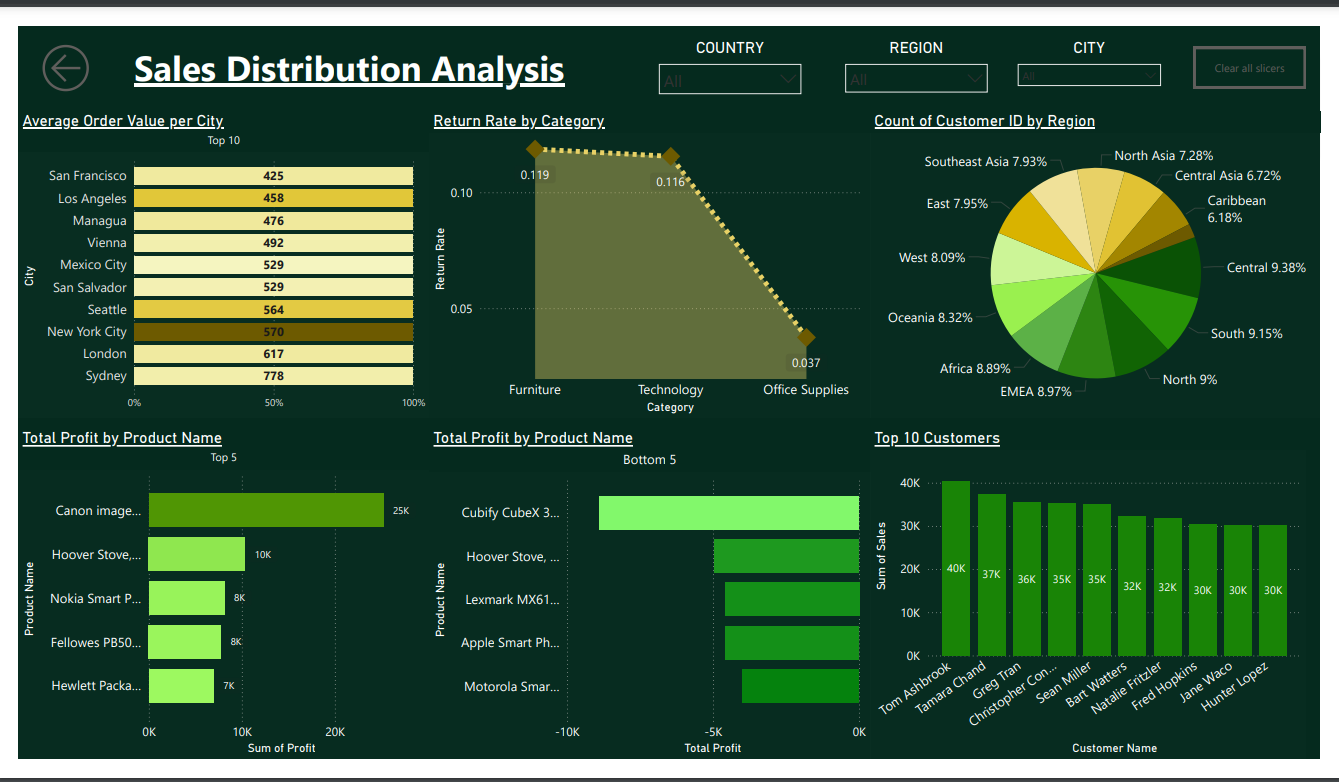

Layout of this report page (visuals, bound fields, positions):
{"tool":"powerbi","page":{"name":"Page 2","canvas":[1600,900],"ordinal":1},"visuals":[{"type":"barChart","title":"Total Profit by Product Name","fields":{"Category":["Orders.Product Name"],"Y":["Orders.Profit"]},"box":[0,494.5,504.7,404.4],"z":0},{"type":"clusteredBarChart","fields":{"Category":["Orders.Product Name"],"Y":["Orders.Total Profit"]},"box":[504.7,494.5,542.1,404.4],"z":1000},{"type":"clusteredColumnChart","title":"Top 10 Customers","fields":{"Category":["Orders.Customer Name"],"Y":["Orders.Sales"]},"box":[1046.7,494.5,535.3,404.4],"z":2000},{"type":"pieChart","fields":{"Y":["Orders.Customer ID"],"Category":["Orders.Region"]},"box":[1046.7,103.7,554,377.2],"z":3000},{"type":"lineChart","fields":{"Y":["Orders.Return Rate"],"Category":["Orders.Category"]},"box":[504.7,103.7,542.1,377.2],"z":4000},{"type":"hundredPercentStackedBarChart","title":"Average Order Value per City","fields":{"Category":["Orders.City"],"Y":["Orders.Avg Order Value"]},"box":[0,103.7,504.7,377.2],"z":5000},{"type":"slicer","title":"COUNTRY","fields":{"Values":["Orders.Country"]},"box":[776.6,15.3,195.4,88.4],"z":6000},{"type":"slicer","title":"REGION","fields":{"Values":["Orders.Region"]},"box":[1006,15.3,195.4,88.4],"z":7000},{"type":"slicer","title":"CITY","fields":{"Values":["Orders.State"]},"box":[1218.4,15.3,195.4,88.4],"z":8000},{"type":"textbox","box":[36.2,16.1,740.7,88.6],"z":9000},{"type":"actionButton","box":[22.1,15.3,100.3,71.4],"z":10000},{"type":"actionButton","box":[1444.4,25.5,137.6,51],"z":11000}]}

Visuals, with their boxes on the page's 1600x900 design canvas (x1, y1, x2, y2). These are canvas units, not pixel positions in the 1339x782 screenshot, which may show the page scaled, cropped or inside an application window:
"Total Profit by Product Name" barChart: x1=0, y1=494, x2=505, y2=899
clusteredBarChart - Orders.Product Name x Orders.Total Profit: x1=505, y1=494, x2=1047, y2=899
"Top 10 Customers" clusteredColumnChart: x1=1047, y1=494, x2=1582, y2=899
pieChart - Orders.Customer ID x Orders.Region: x1=1047, y1=104, x2=1601, y2=481
lineChart - Orders.Return Rate x Orders.Category: x1=505, y1=104, x2=1047, y2=481
"Average Order Value per City" hundredPercentStackedBarChart: x1=0, y1=104, x2=505, y2=481
"COUNTRY" slicer: x1=777, y1=15, x2=972, y2=104
"REGION" slicer: x1=1006, y1=15, x2=1201, y2=104
"CITY" slicer: x1=1218, y1=15, x2=1414, y2=104
textbox: x1=36, y1=16, x2=777, y2=105
actionButton: x1=22, y1=15, x2=122, y2=87
actionButton: x1=1444, y1=26, x2=1582, y2=76
